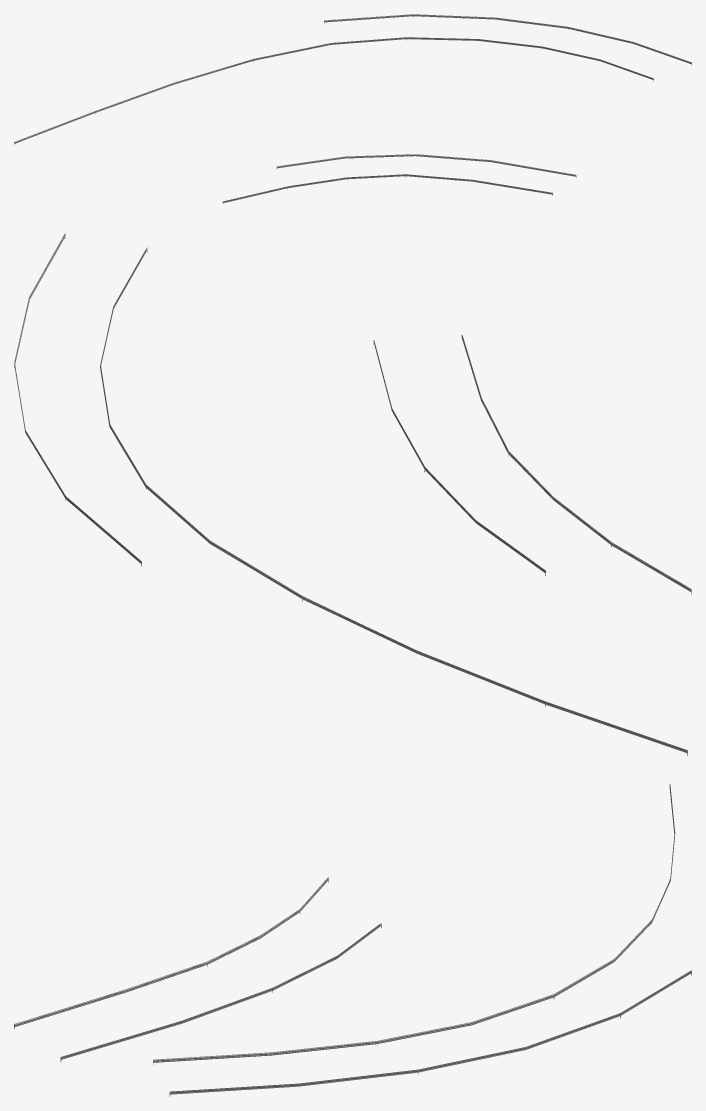
The model's file is sfn_crashbar03.obj.
The picture shows the model from 3 angles, top to bottom: view 1: azimuth 30°, elevation 25°; view 2: azimuth 150°, elevation 25°; view 3: azimuth 270°, elevation 25°; orthographic projection. The views are drawn at different scales.
Visible parts, largest first — view 1: sfn_crashbar03; view 2: sfn_crashbar03; view 3: sfn_crashbar03.
Part boxes in pixels (<box>): sfn_crashbar03: <box>14,14,691,204</box>; sfn_crashbar03: <box>14,233,691,755</box>; sfn_crashbar03: <box>14,784,691,1096</box>.
Size of the model in its own units: 199 by 27.41 by 138.
2 materials, 2 textured.
